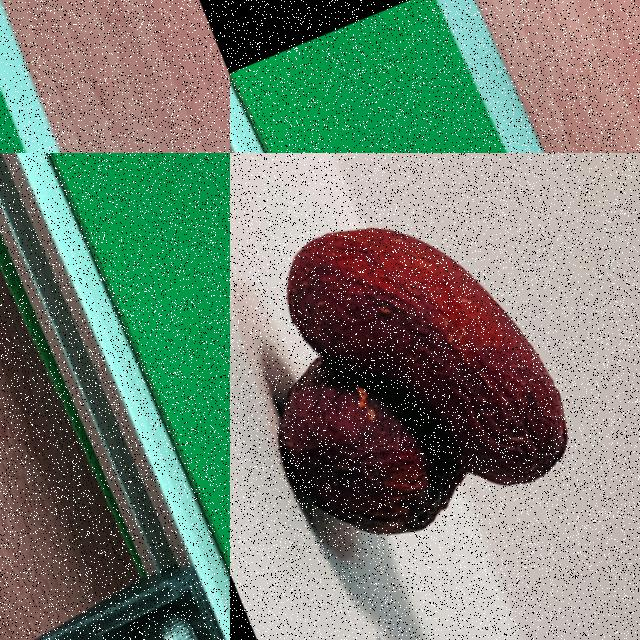Agglomerated_cocoabeans: (230, 153, 639, 639), (128, 270, 229, 639)
